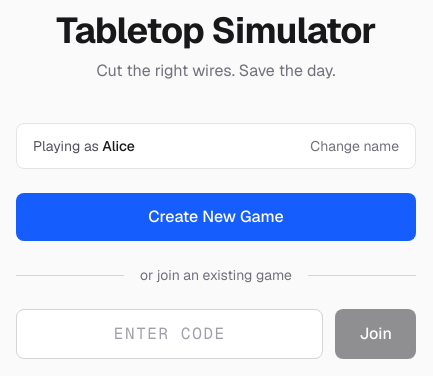
Test: Home (app/page.tsx) › authenticated lobby › create game › disables the Join button once creating
Type "ABC123" into the field with placeholder "Enter code". click: (170, 334)
box: [16,309,324,359]
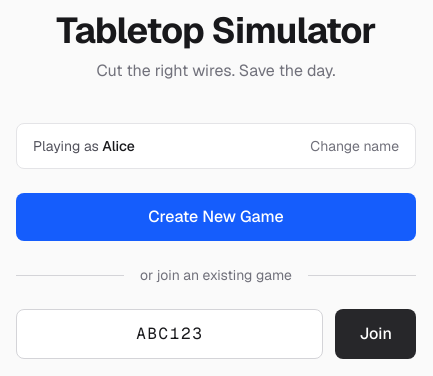
Click the button "Create New Game". click: (216, 217)
box: [16,193,416,241]
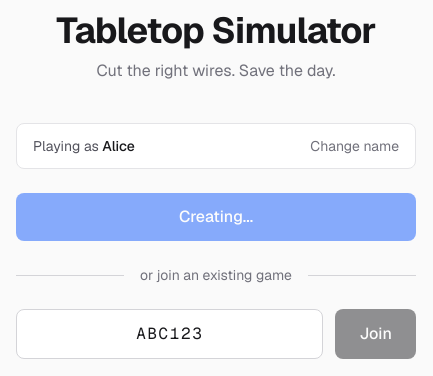
Expected: the button "Join" is disabled, [336,309,416,359]
